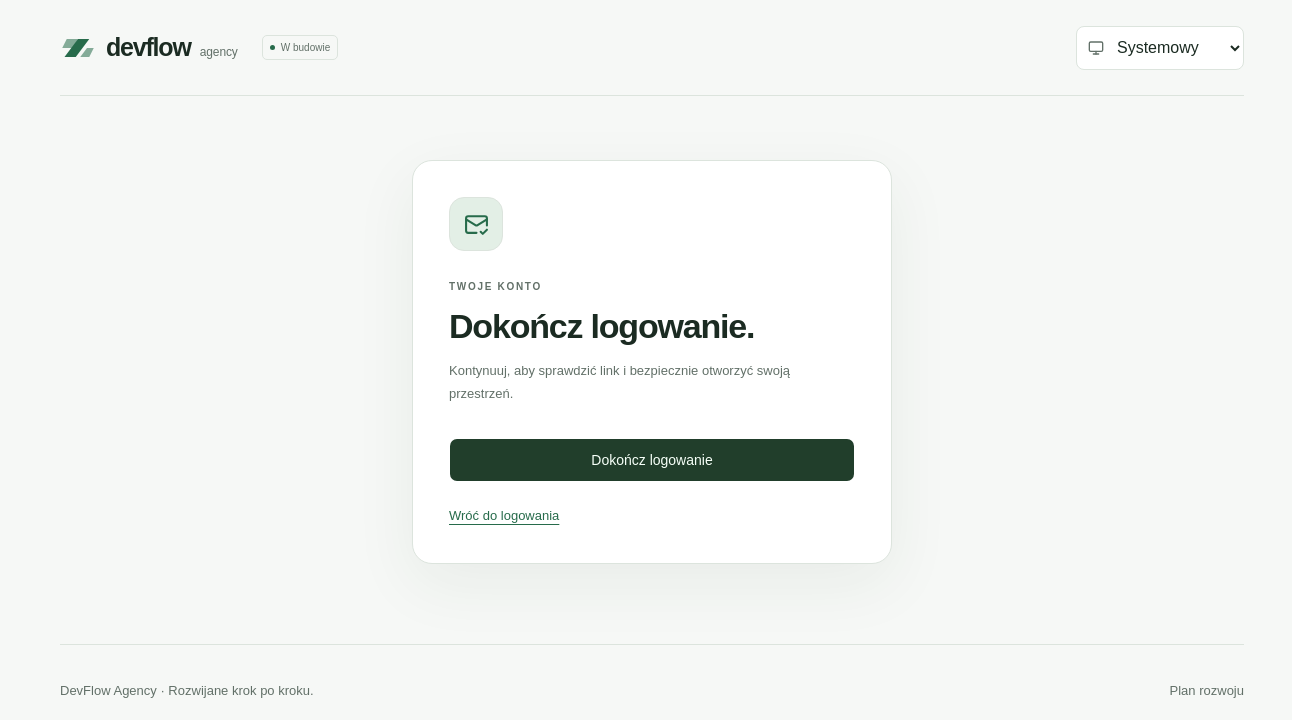
Test case: confirmation callback page › keeps an unconsumed code reloadable, exchanges only on interaction and cleans it afterwards
The image size is (1292, 720).
Click the button "Dokończ logowanie" at (652, 460), box left=449, top=438, right=855, bottom=482
(page scrolled)
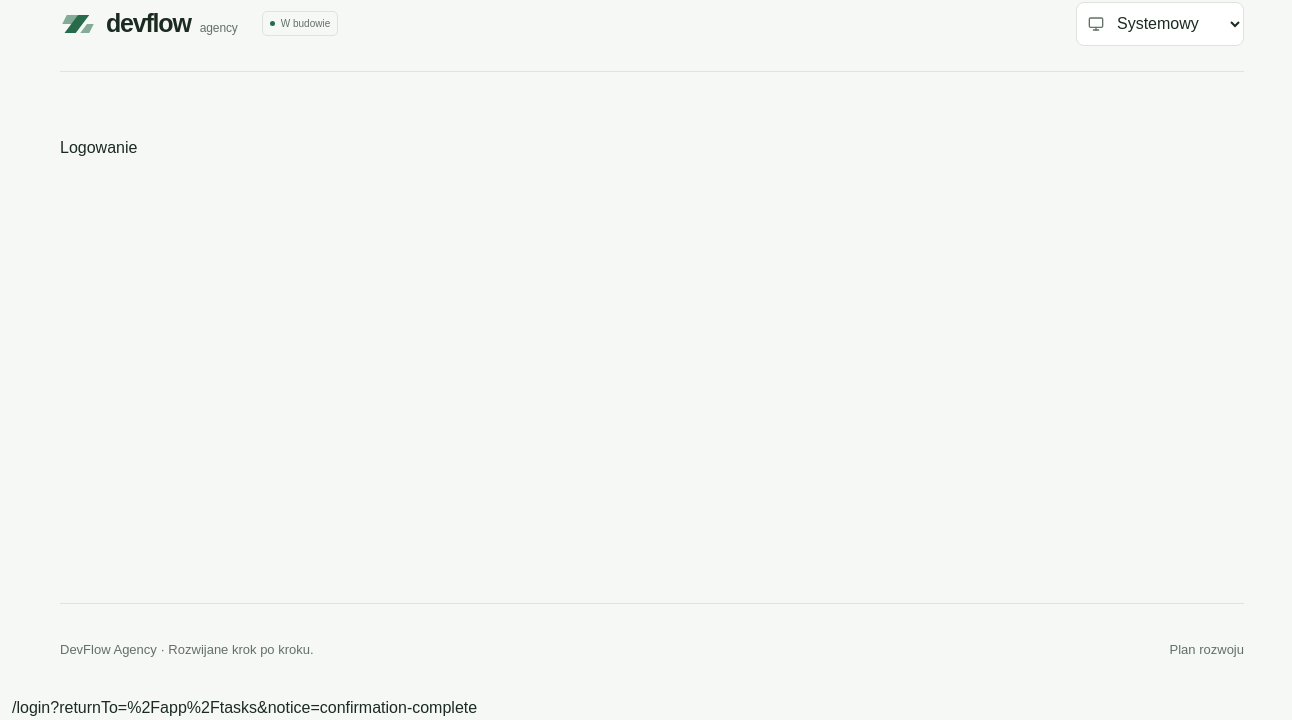
Expected: the text named "Bieżący adres" no longer shows "code=", left=12, top=699, right=477, bottom=716
Expected: the text named "Bieżący adres" reads "/login?returnTo=%2Fapp%2Ftasks&notice=confirmation-complete", left=12, top=699, right=477, bottom=716
